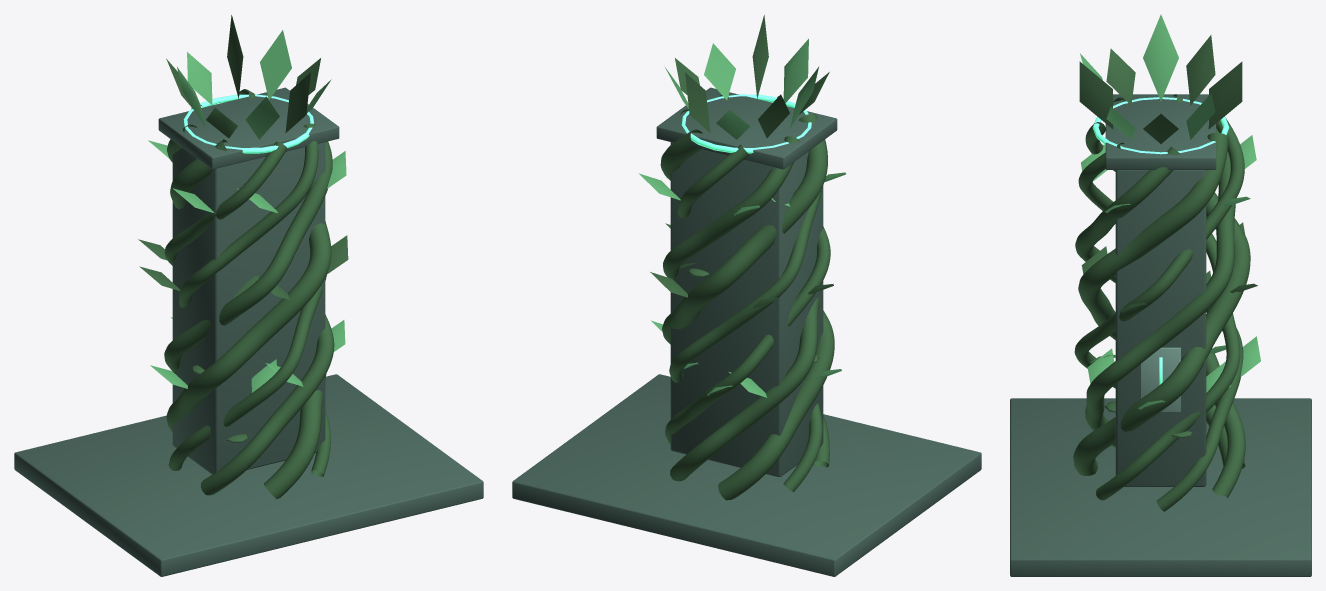
Rendered from verdant-root-tower.glb.
3 renders of one model, left to right at view 1: azimuth 30°, elevation 25°; view 2: azimuth 150°, elevation 25°; view 3: azimuth 270°, elevation 25°, orthographic. The views are drawn at different scales.
Parts seen in each view (by area): view 1: rt_base, rt_pillar, rt_cap, rt_root_2, rt_root_1, rt_root_4, rt_root_5, rt_root_0, rt_root_3, rt_root_6, rt_crown_1, rt_glow_ring (+4 smaller); view 2: rt_base, rt_pillar, rt_cap, rt_root_5, rt_root_2, rt_root_1, rt_root_4, rt_root_0, rt_root_6, rt_root_3, rt_crown_9, rt_crown_7 (+4 smaller); view 3: rt_base, rt_pillar, rt_root_5, rt_cap, rt_root_2, rt_root_4, rt_root_1, rt_root_3, rt_root_6, rt_root_0, rt_crown_5, rt_tech_panel (+10 smaller).
Boxes of the visible parts, x1=… form: rt_base: x1=14, y1=374, x2=483, y2=576; rt_pillar: x1=172, y1=142, x2=325, y2=474; rt_cap: x1=158, y1=87, x2=339, y2=169; rt_root_2: x1=166, y1=89, x2=331, y2=431; rt_root_1: x1=164, y1=141, x2=332, y2=371; rt_root_4: x1=167, y1=124, x2=334, y2=495; rt_root_5: x1=170, y1=139, x2=326, y2=499; rt_root_0: x1=179, y1=123, x2=318, y2=307; rt_root_3: x1=168, y1=105, x2=326, y2=470; rt_root_6: x1=164, y1=141, x2=330, y2=476; rt_crown_1: x1=260, y1=30, x2=291, y2=99; rt_glow_ring: x1=183, y1=94, x2=313, y2=153; rt_base: x1=512, y1=374, x2=981, y2=576; rt_pillar: x1=670, y1=142, x2=823, y2=476; rt_cap: x1=656, y1=87, x2=837, y2=169; rt_root_5: x1=662, y1=113, x2=827, y2=344; rt_root_2: x1=660, y1=129, x2=834, y2=500; rt_root_1: x1=670, y1=109, x2=819, y2=481; rt_root_4: x1=663, y1=136, x2=829, y2=467; rt_root_0: x1=665, y1=95, x2=830, y2=444; rt_root_6: x1=669, y1=96, x2=822, y2=382; rt_root_3: x1=677, y1=144, x2=822, y2=492; rt_crown_9: x1=704, y1=43, x2=735, y2=100; rt_crown_7: x1=783, y1=38, x2=808, y2=102; rt_base: x1=1010, y1=398, x2=1311, y2=576; rt_pillar: x1=1115, y1=170, x2=1206, y2=486; rt_root_5: x1=1073, y1=97, x2=1250, y2=475; rt_cap: x1=1105, y1=94, x2=1216, y2=169; rt_root_2: x1=1078, y1=132, x2=1245, y2=468; rt_root_4: x1=1085, y1=94, x2=1235, y2=447; rt_root_1: x1=1075, y1=147, x2=1245, y2=498; rt_root_3: x1=1074, y1=117, x2=1244, y2=388; rt_root_6: x1=1085, y1=122, x2=1240, y2=500; rt_root_0: x1=1078, y1=142, x2=1243, y2=511; rt_crown_5: x1=1143, y1=14, x2=1178, y2=100; rt_tech_panel: x1=1141, y1=347, x2=1180, y2=411.
Bounding box in the file's own units: 3.8 × 4.9 × 3.
